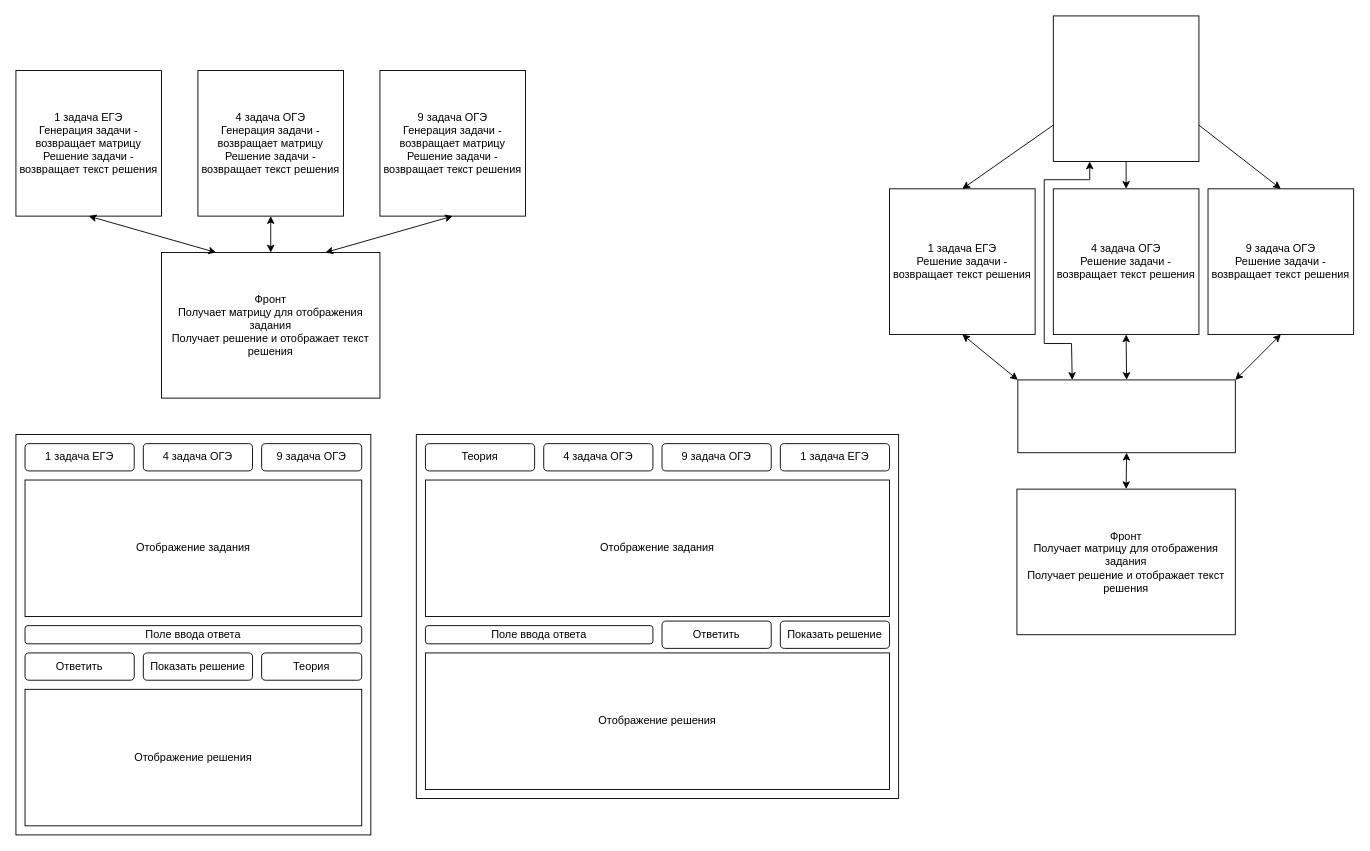
Image size: 1370x851. Some labels were removed from this diagram. The centre of each missing label's shape, as x and y in pixels:
Генерация задачи - возвращает матрицу: (x=1125, y=88)
Контролер без БД: (x=1126, y=416)
